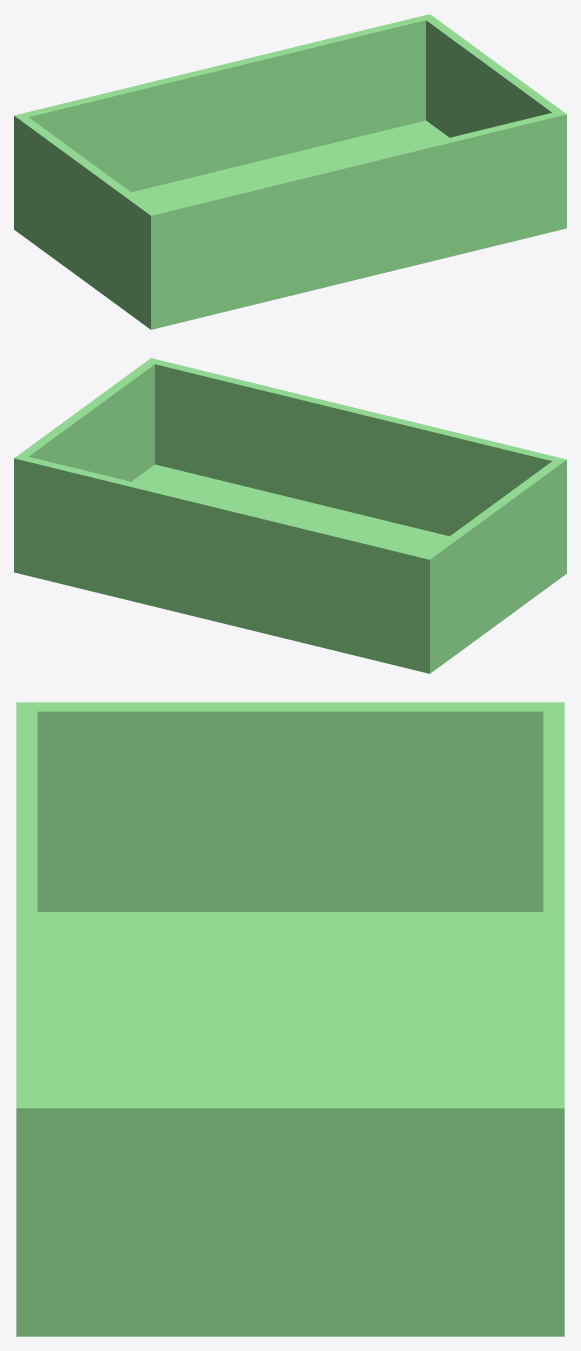
3 renders of one model, top to bottom at view 1: azimuth 30°, elevation 25°; view 2: azimuth 150°, elevation 25°; view 3: azimuth 270°, elevation 25°, orthographic. The views are drawn at different scales.
Visible parts, largest first — view 1: Box_003; view 2: Box_003; view 3: Box_003.
Boxes of the visible parts, x1,y1,x2,y2 form: Box_003: [14, 14, 566, 329]; Box_003: [14, 358, 566, 673]; Box_003: [16, 702, 564, 1336].
Bounding box in the file's own units: 44.92 × 11.77 × 25.64.
